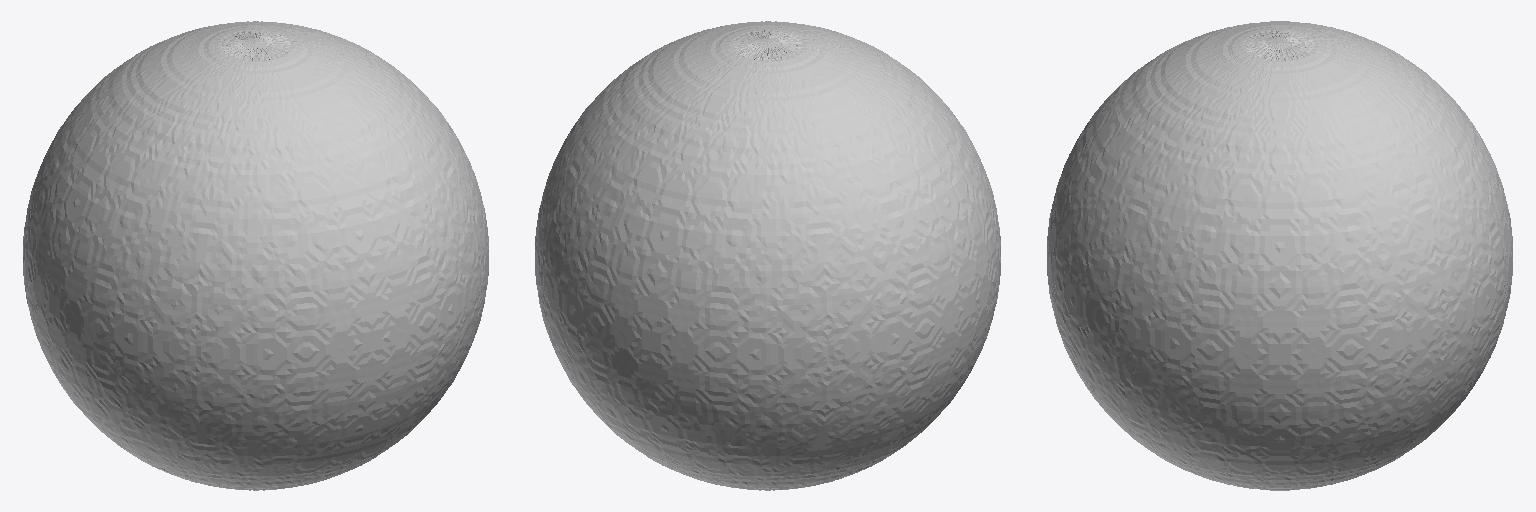
File: particleEmission.obj
The picture shows the model from 3 angles: view 1: azimuth 30°, elevation 25°; view 2: azimuth 150°, elevation 25°; view 3: azimuth 270°, elevation 25°; orthographic projection.
Parts seen in each view (by area): view 1: Sphere; view 2: Sphere; view 3: Sphere.
Boxes of the visible parts, x1=… form: Sphere: x1=23, y1=21, x2=488, y2=490; Sphere: x1=535, y1=21, x2=1000, y2=490; Sphere: x1=1047, y1=21, x2=1512, y2=490.
Bounding box in the file's own units: 0.0005 × 0.0005 × 0.0005.